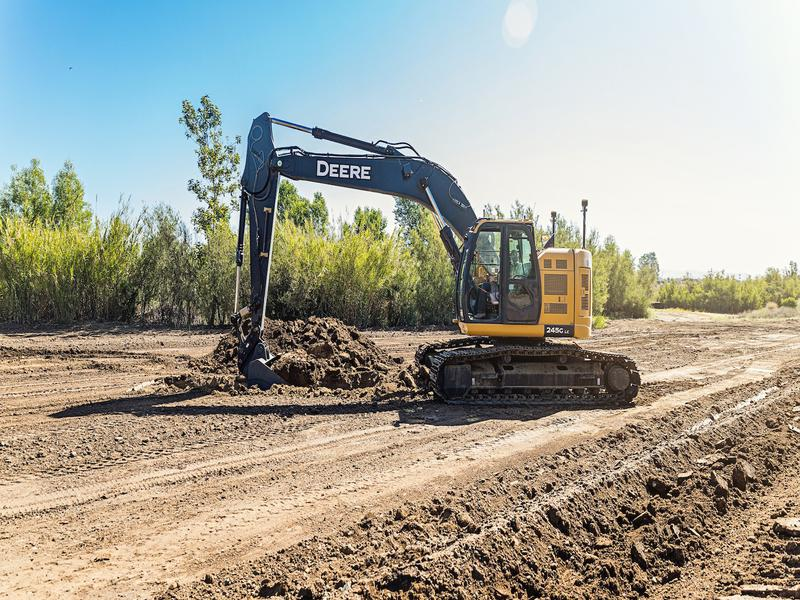shovel: (221, 108, 659, 420)
